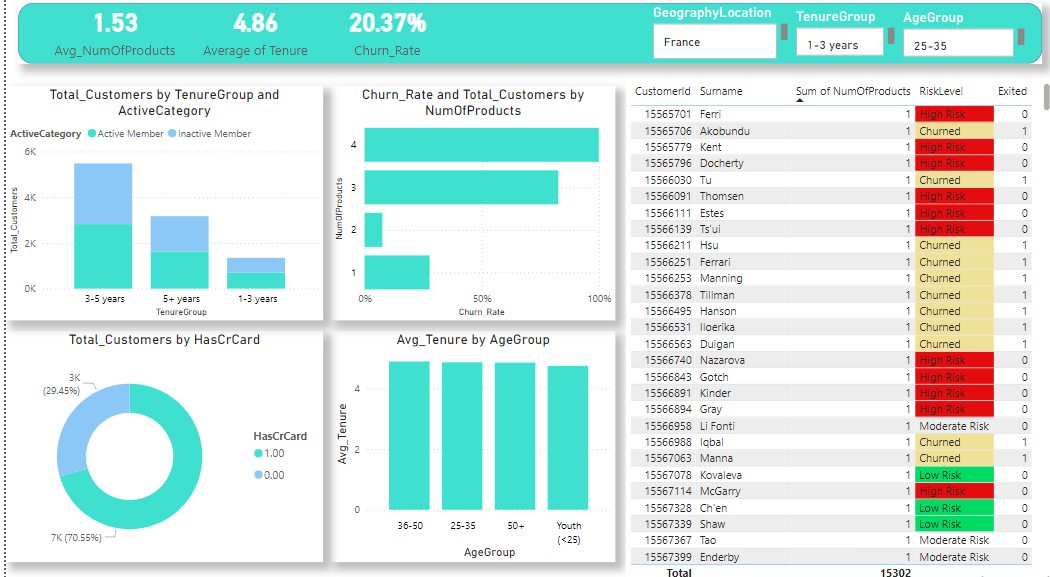

What the dashboard file says about the page in this screenshot:
{"tool":"powerbi","page":{"name":"Product & Engagement","canvas":[1280,720],"ordinal":3},"visuals":[{"type":"shape","box":[14.3,11.4,1250,74.3],"z":0},{"type":"clusteredColumnChart","fields":{"Category":["analytics customer_dim.AgeGroup"],"Y":["Calculation.Avg_Tenure"]},"box":[396.4,411.5,346.8,282.2],"z":1000},{"type":"clusteredBarChart","fields":{"Category":["analytics account_fact.NumOfProducts"],"Y":["Calculation.Churn_Rate"]},"box":[396.4,112.9,346.8,286.3],"z":2000},{"type":"donutChart","fields":{"Category":["analytics account_fact.HasCrCard"],"Y":["Calculation.Total_Customers"]},"box":[0,411.5,386.8,282.2],"z":3000},{"type":"columnChart","fields":{"Category":["analytics account_fact.TenureGroup"],"Series":["analytics active_dim.ActiveCategory"],"Y":["Calculation.Total_Customers"]},"box":[0,112.9,386.8,286.3],"z":4000},{"type":"card","fields":{"Values":["Calculation.Avg_NumOfProducts"]},"box":[41.3,0,183.1,85.3],"z":5000},{"type":"tableEx","fields":{"Values":["analytics customer_dim.CustomerId","analytics customer_dim.Surname","Sum(analytics account_fact.NumOfProducts)","analytics account_fact.RiskLevel","analytics account_fact.Exited"]},"box":[757,103.2,523,616.6],"z":6000},{"type":"advancedSlicerVisual","fields":{"Values":["analytics customer_dim.AgeGroup"]},"box":[1090.1,17.9,158.3,63.3],"z":7000},{"type":"advancedSlicerVisual","fields":{"Values":["analytics account_fact.TenureGroup"]},"box":[959.3,16.5,130.8,63.3],"z":8000},{"type":"advancedSlicerVisual","fields":{"Values":["analytics churn_by_geography.GeographyLocation"]},"box":[784.5,12.4,174.8,72.9],"z":9000},{"type":"card","fields":{"Values":["Avg(analytics account_fact.Tenure)"]},"box":[212,0,184.4,85.3],"z":10000},{"type":"card","fields":{"Values":["Calculation.Churn_Rate"]},"box":[374.4,0,181.7,85.3],"z":11000}]}

Visuals, with their boxes in screenshot pixels (x1, y1, x2, y2), scaled from the page's 1280x720 canvas onto the 1050x577 screenshot:
shape: (12, 9, 1037, 69)
clusteredColumnChart - analytics customer_dim.AgeGroup x Calculation.Avg_Tenure: (325, 330, 610, 556)
clusteredBarChart - analytics account_fact.NumOfProducts x Calculation.Churn_Rate: (325, 90, 610, 320)
donutChart - analytics account_fact.HasCrCard x Calculation.Total_Customers: (0, 330, 317, 556)
columnChart - analytics account_fact.TenureGroup x analytics active_dim.ActiveCategory: (0, 90, 317, 320)
card - Calculation.Avg_NumOfProducts: (34, 0, 184, 68)
tableEx - analytics customer_dim.CustomerId x analytics customer_dim.Surname: (621, 83, 1049, 576)
advancedSlicerVisual - analytics customer_dim.AgeGroup: (894, 14, 1024, 65)
advancedSlicerVisual - analytics account_fact.TenureGroup: (787, 13, 894, 64)
advancedSlicerVisual - analytics churn_by_geography.GeographyLocation: (644, 10, 787, 68)
card - Avg(analytics account_fact.Tenure): (174, 0, 325, 68)
card - Calculation.Churn_Rate: (307, 0, 456, 68)
